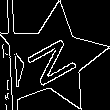N_NE: (21, 28, 84, 88)
